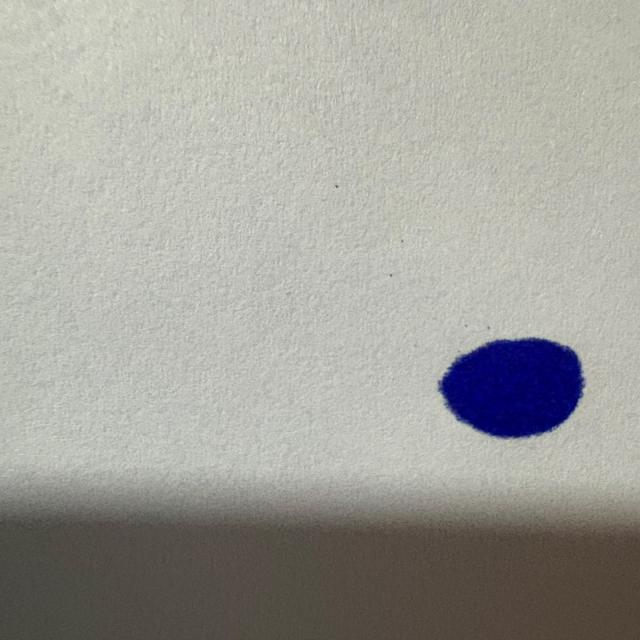Circle: (434, 333, 590, 442)
